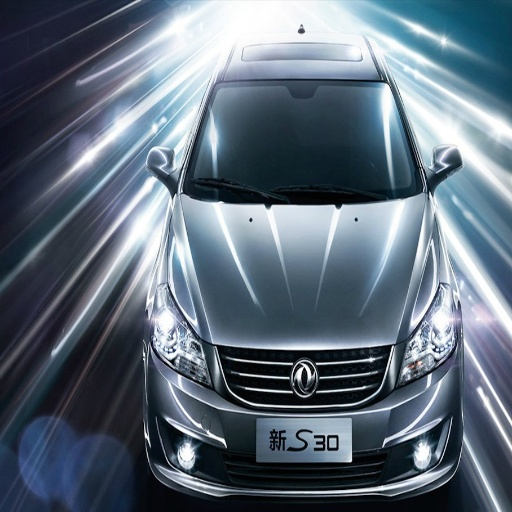front_bumper: (149, 342, 458, 497)
front_right_light: (148, 287, 212, 386)
hood: (178, 195, 435, 401)
